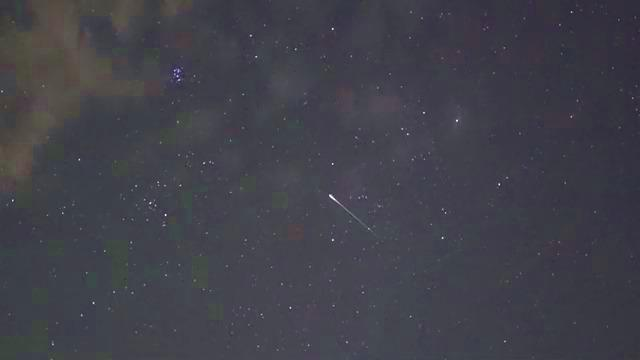meteorite: (309, 191, 388, 236)
